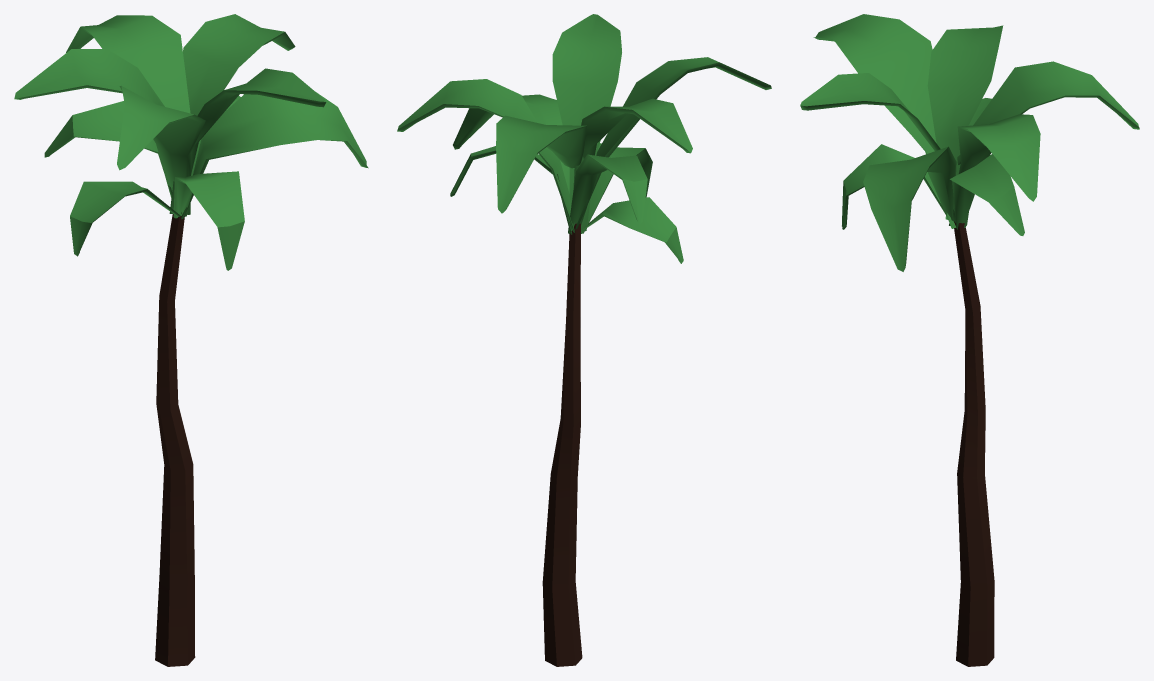
The model's file is PalmTree03.FBX.
3 views of the same model, side by side, from view 1: azimuth 30°, elevation 25°; view 2: azimuth 150°, elevation 25°; view 3: azimuth 270°, elevation 25° (orthographic). The views are drawn at different scales.
Visible parts, largest first — view 1: PalmTree004; view 2: PalmTree004; view 3: PalmTree004.
Boxes of the visible parts, <box> form: PalmTree004: <box>14,14,368,666</box>; PalmTree004: <box>397,14,771,666</box>; PalmTree004: <box>800,14,1139,666</box>.
Size of the model in its own units: 411 by 807 by 417.
